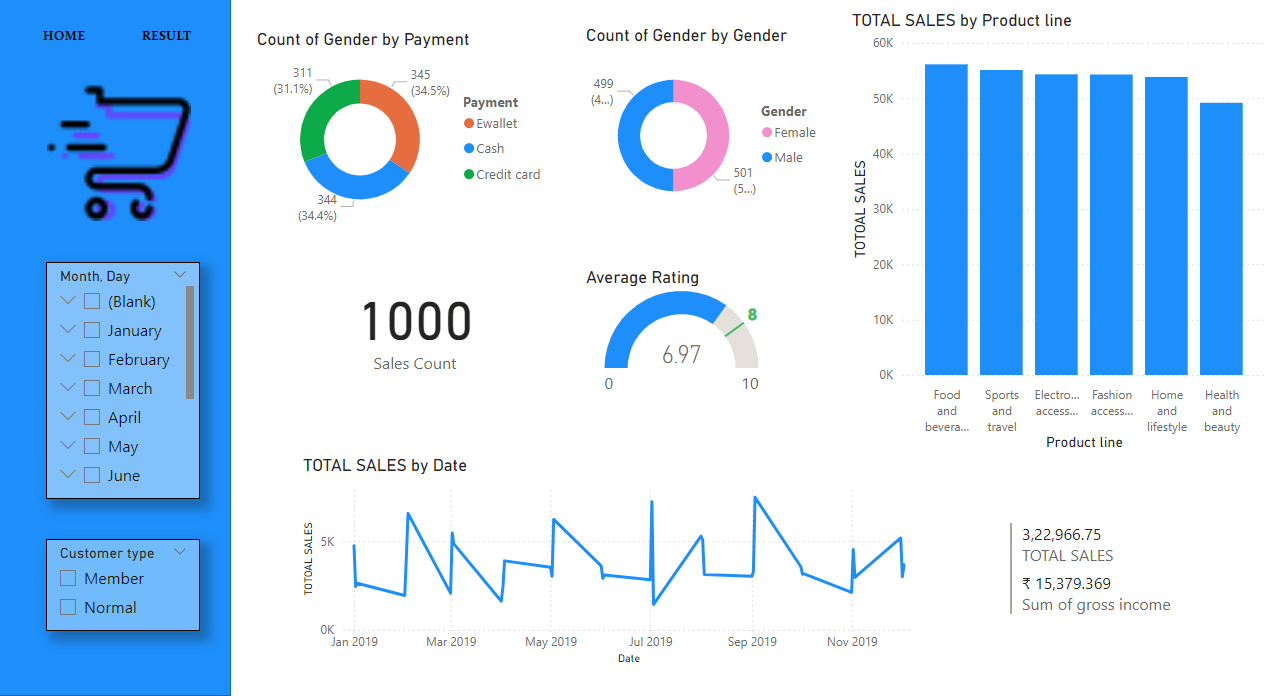

The page's visual inventory and layout, read from the dashboard file:
{"tool":"powerbi","page":{"name":"HOME","canvas":[1280,720],"ordinal":0},"visuals":[{"type":"shape","box":[0,0,232,720],"z":0},{"type":"slicer","fields":{"Values":["supermarket_sales - Sheet1.Date.Variation.Date Hierarchy.Month","supermarket_sales - Sheet1.Date.Variation.Date Hierarchy.Day"]},"box":[47,286,154,237],"z":1000},{"type":"gauge","fields":{"Y":["supermarket_sales - Sheet1.Average Rating"]},"box":[539.1,290.9,201.8,137.3],"z":2000},{"type":"multiRowCard","fields":{"Values":["supermarket_sales - Sheet1.TOTOAL SALES","Sum(supermarket_sales - Sheet1.gross income)"]},"box":[958.2,541.8,224.5,133.6],"z":3000},{"type":"card","fields":{"Values":["supermarket_sales - Sheet1.Sales Count"]},"box":[314.5,278.2,138.2,150],"z":4000},{"type":"clusteredColumnChart","title":"TOTAL SALES by Product line","fields":{"Category":["supermarket_sales - Sheet1.Product line"],"Y":["supermarket_sales - Sheet1.TOTOAL SALES"]},"box":[792.7,17.3,400,427.3],"z":5000},{"type":"donutChart","fields":{"Category":["supermarket_sales - Sheet1.Payment"],"Y":["CountNonNull(supermarket_sales - Sheet1.Gender)"]},"box":[231.8,48.2,303.6,202.7],"z":6000},{"type":"slicer","fields":{"Values":["supermarket_sales - Sheet1.Customer type"]},"box":[47,563,154,92],"z":7000},{"type":"lineChart","title":"TOTAL SALES by Date","fields":{"Category":["supermarket_sales - Sheet1.Date Hierarchy.Date"],"Y":["supermarket_sales - Sheet1.TOTOAL SALES"]},"box":[299,479,637,214],"z":8000},{"type":"donutChart","fields":{"Y":["CountNonNull(supermarket_sales - Sheet1.Gender)"],"Category":["supermarket_sales - Sheet1.Gender"]},"box":[532.7,48.2,250.9,201.8],"z":9000},{"type":"actionButton","box":[21,41,88,38],"z":10000},{"type":"actionButton","box":[124,37,87,45],"z":11000},{"type":"image","box":[57,110,140,140],"z":12000},{"type":"image","box":[43,93,154,157],"z":13000}]}

Visuals, with their boxes on the page's 1280x720 design canvas (x1, y1, x2, y2). These are canvas units, not pixel positions in the 1279x696 screenshot, which may show the page scaled, cropped or inside an application window:
shape: 0 0 232 720
slicer - supermarket_sales - Sheet1.Date.Variation.Date Hierarchy.Month x supermarket_sales - Sheet1.Date.Variation.Date Hierarchy.Day: 47 286 201 523
gauge - supermarket_sales - Sheet1.Average Rating: 539 291 741 428
multiRowCard - supermarket_sales - Sheet1.TOTOAL SALES x Sum(supermarket_sales - Sheet1.gross income): 958 542 1183 675
card - supermarket_sales - Sheet1.Sales Count: 314 278 453 428
"TOTAL SALES by Product line" clusteredColumnChart: 793 17 1193 445
donutChart - supermarket_sales - Sheet1.Payment x CountNonNull(supermarket_sales - Sheet1.Gender): 232 48 535 251
slicer - supermarket_sales - Sheet1.Customer type: 47 563 201 655
"TOTAL SALES by Date" lineChart: 299 479 936 693
donutChart - CountNonNull(supermarket_sales - Sheet1.Gender) x supermarket_sales - Sheet1.Gender: 533 48 784 250
actionButton: 21 41 109 79
actionButton: 124 37 211 82
image: 57 110 197 250
image: 43 93 197 250
